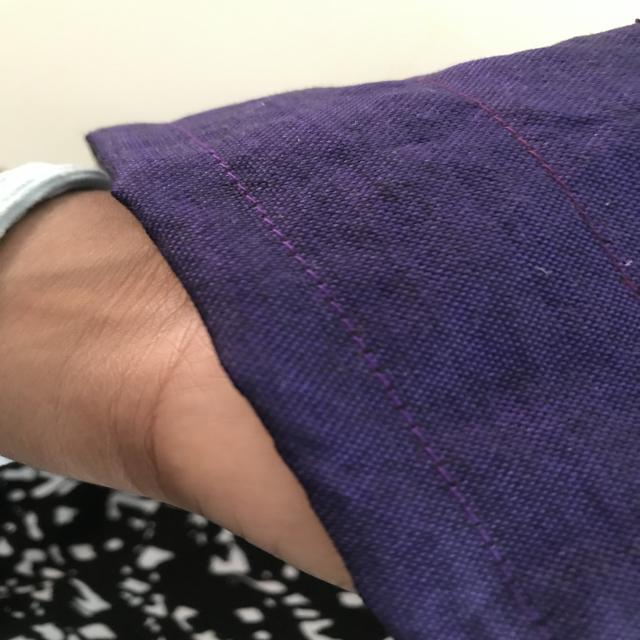good: (225, 186, 319, 262)
